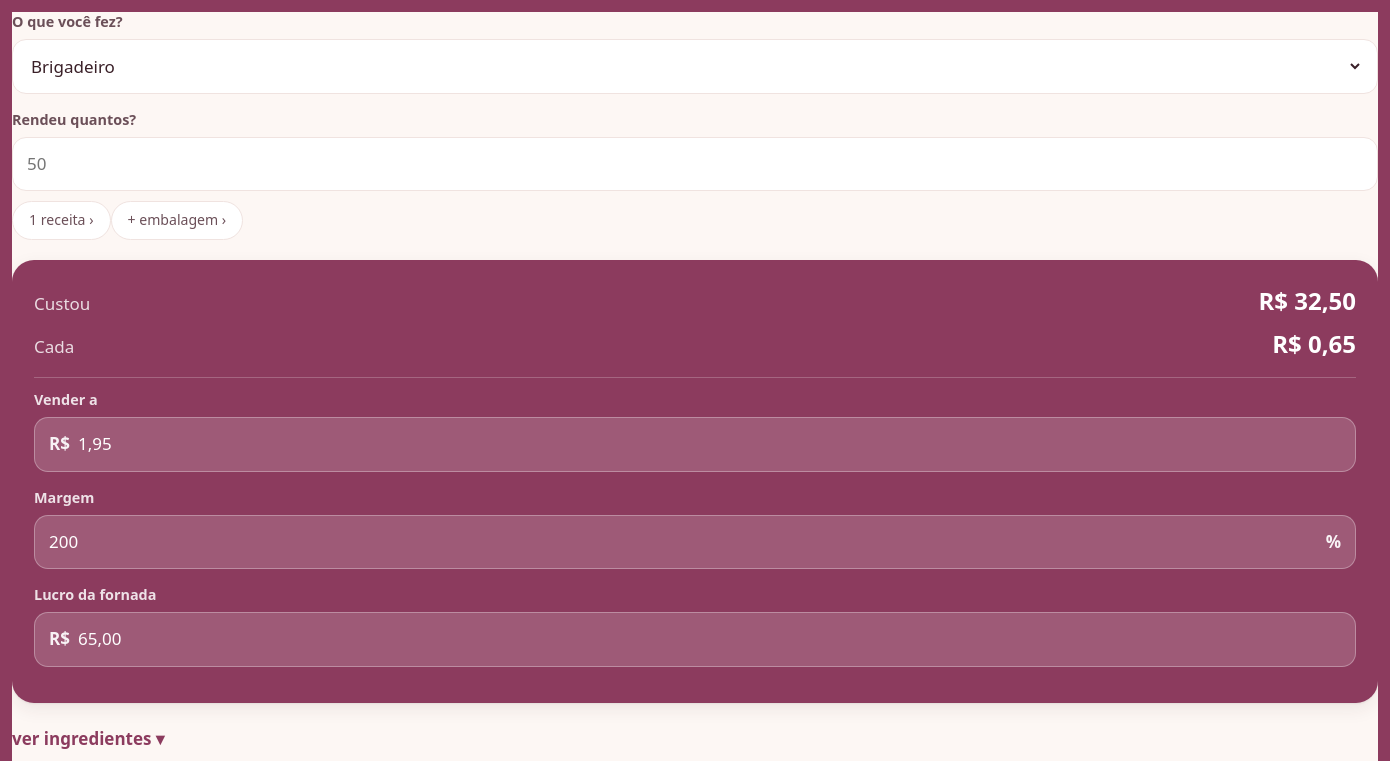
Test: Calculadora › digitar quantos e quanto cada muda o total e o de cada um
The width and height of the screenshot is (1390, 761).
Click the button with test id "embalagem-chip".
click(177, 221)  # box [110,201,243,240]
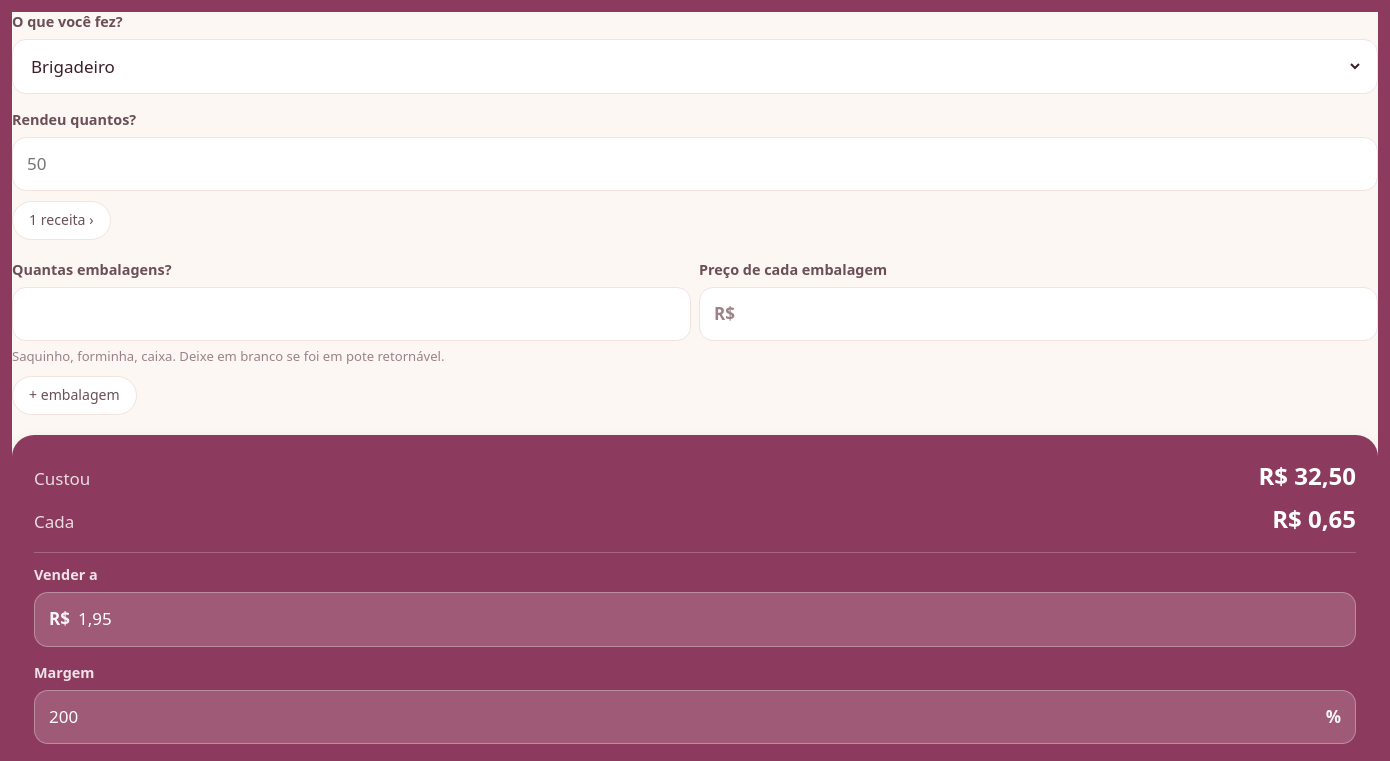
Type "1" into the field labelled "Quantas embalagens?".
click(352, 314); type("1")  # box [27,288,676,340]
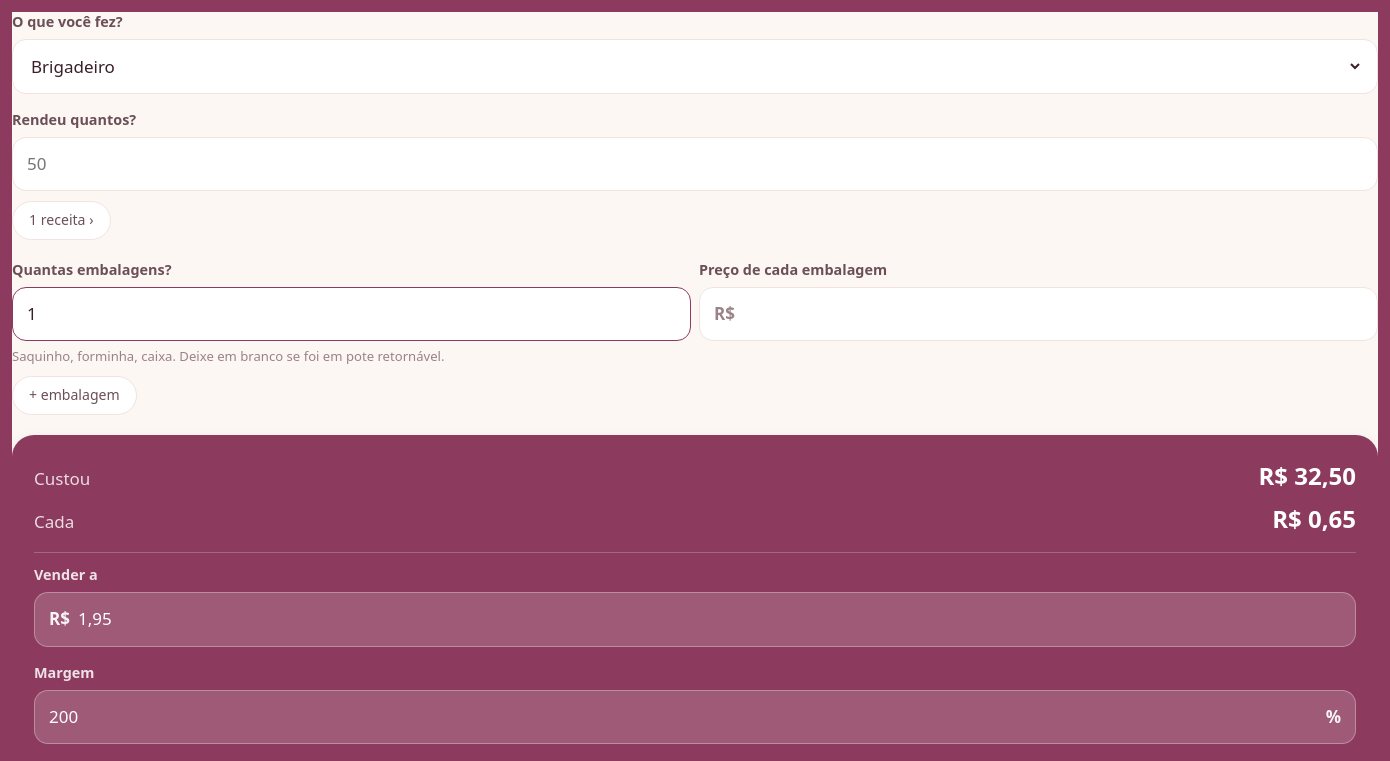
Type "2,50" into the field labelled "Preço de cada embalagem".
click(1053, 314); type("2,50")  # box [743,288,1363,340]
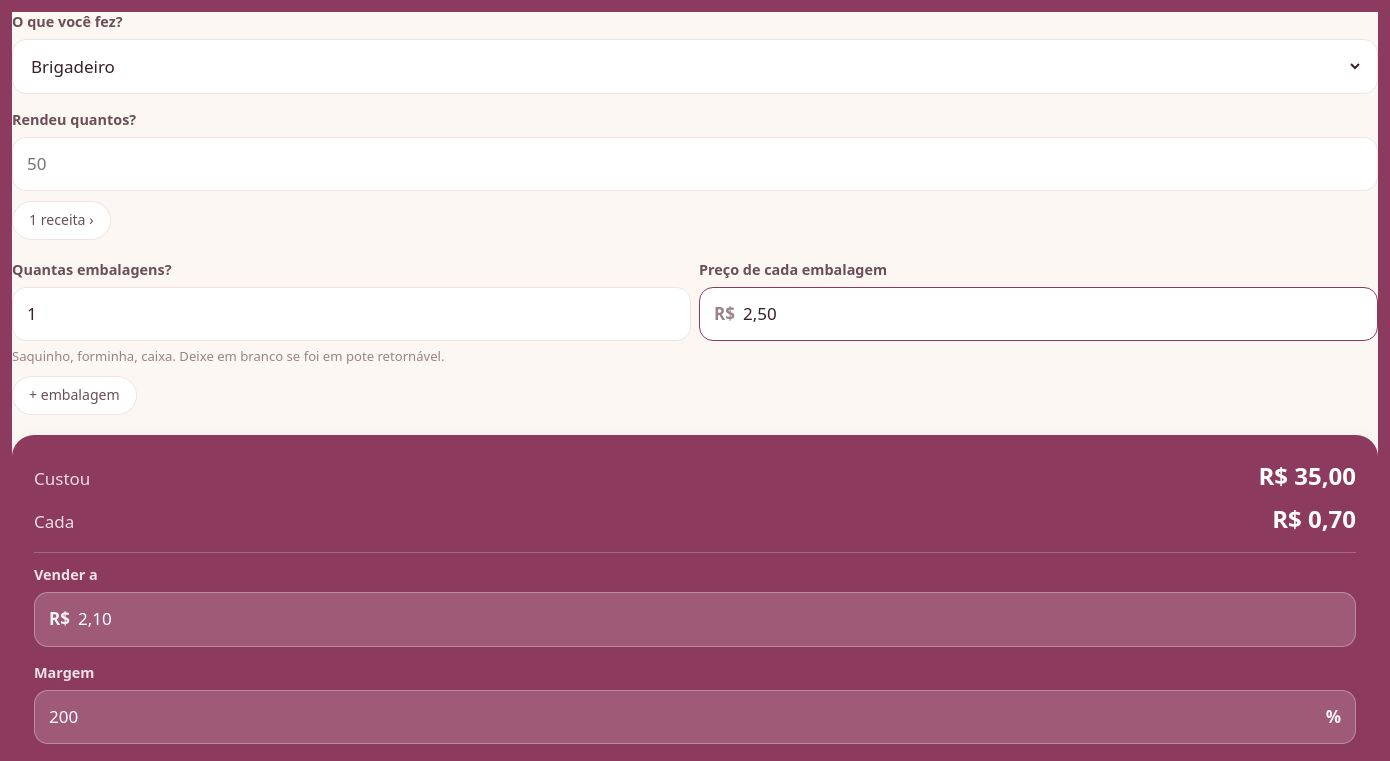
Check: the text with test id "custo-total" reads "R$ 35,00", box [1258,459,1356,492]
Check: the text with test id "custo-cada" reads "R$ 0,70", box [1272,502,1356,534]
